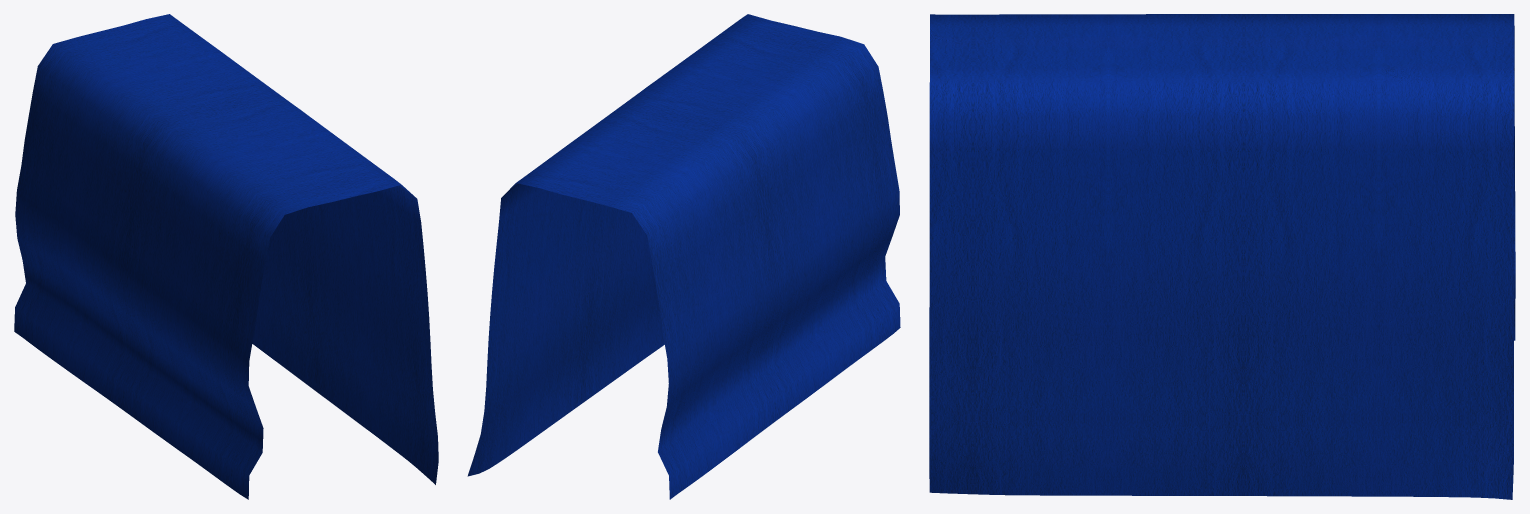
The model's file is TOALHA_MESH.fbx.
The picture shows the model from 3 angles, left to right: view 1: azimuth 30°, elevation 25°; view 2: azimuth 150°, elevation 25°; view 3: azimuth 270°, elevation 25°; orthographic projection. The views are drawn at different scales.
Parts seen in each view (by area): view 1: Toalha1; view 2: Toalha1; view 3: Toalha1.
Part boxes in pixels (x1=…): Toalha1: x1=14, y1=14, x2=438, y2=499; Toalha1: x1=467, y1=14, x2=900, y2=499; Toalha1: x1=929, y1=14, x2=1515, y2=499.
Bounding box in the file's own units: 4.48 × 6.48 × 8.85.
